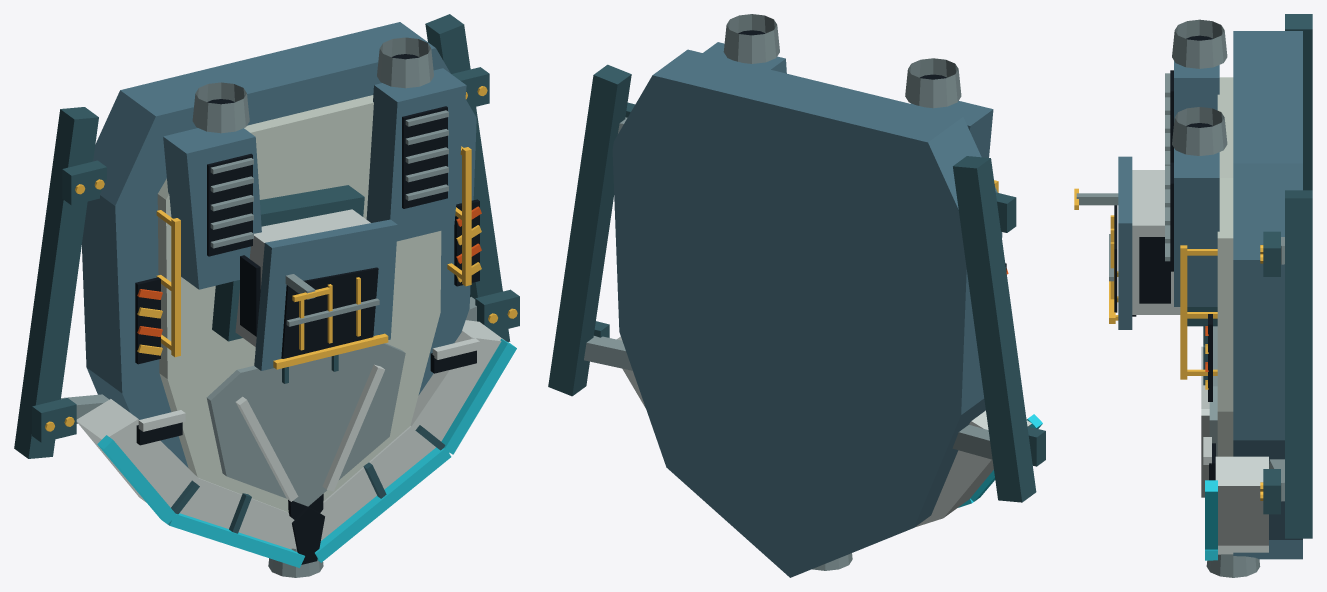
3 views of the same model, side by side, from view 1: azimuth 30°, elevation 25°; view 2: azimuth 150°, elevation 25°; view 3: azimuth 270°, elevation 25° (orthographic). The views are drawn at different scales.
Visible parts, largest first — view 1: Model; view 2: Model; view 3: Model.
Boxes of the visible parts, left/top/right/bottom form: Model: left=14, top=14, right=519, bottom=577; Model: left=548, top=14, right=1045, bottom=577; Model: left=1074, top=14, right=1312, bottom=577.
Size of the model in its own units: 2.72 by 2.74 by 1.2.
